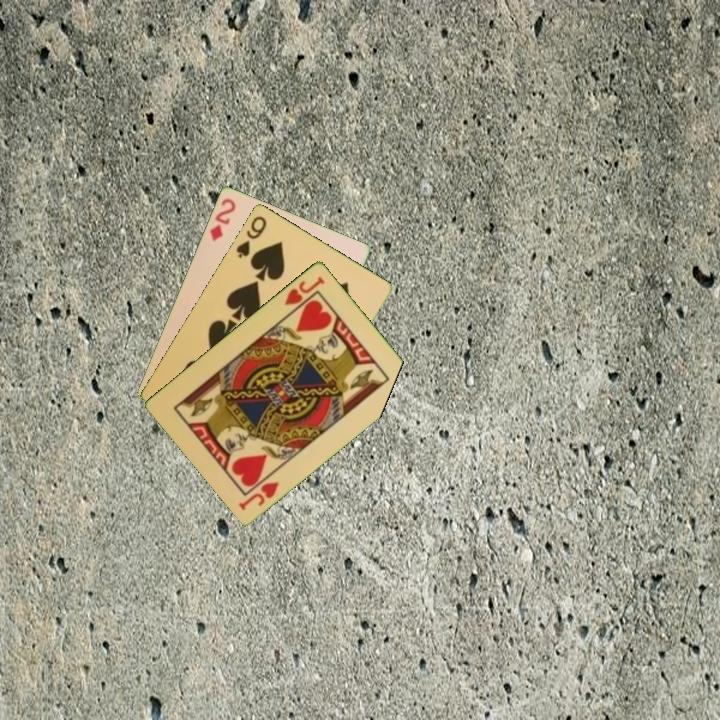2d: (206, 194, 238, 244)
9s: (232, 212, 269, 261)
Jh: (280, 272, 328, 317), (235, 477, 282, 513)
